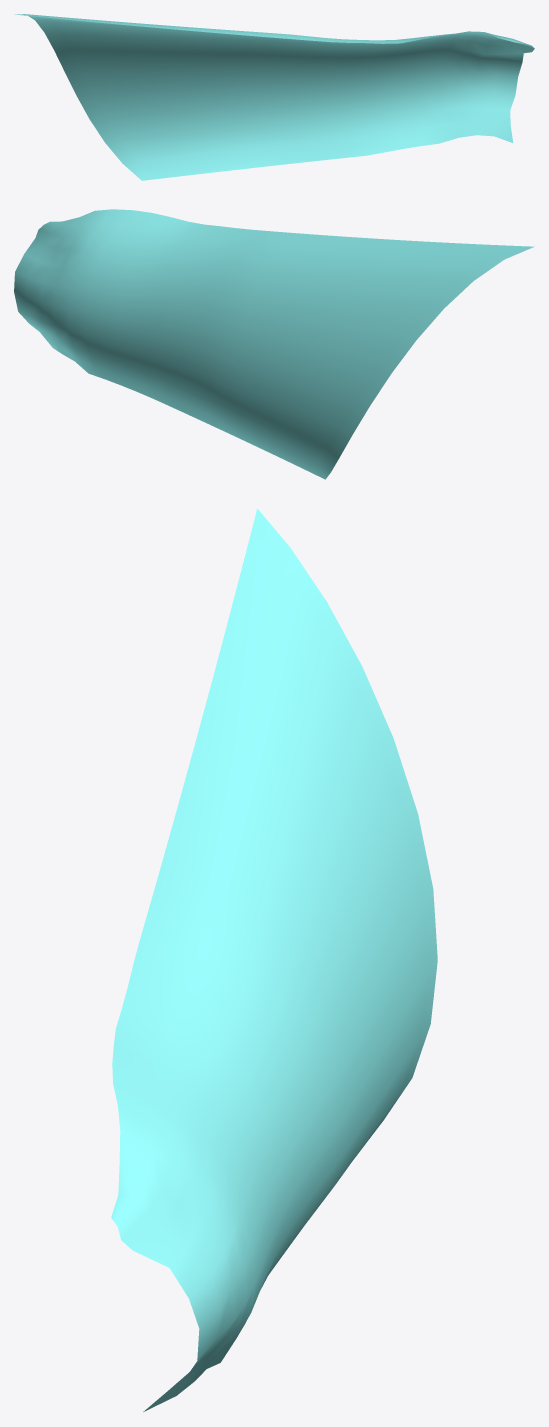
The model's file is Unit_Cloth_Left.FBX.
The picture shows the model from 3 angles, top to bottom: view 1: azimuth 30°, elevation 25°; view 2: azimuth 150°, elevation 25°; view 3: azimuth 270°, elevation 25°; orthographic projection. The views are drawn at different scales.
Visible parts, largest first — view 1: Unit_Cloth_Left; view 2: Unit_Cloth_Left; view 3: Unit_Cloth_Left.
Part boxes in pixels (x1,y1,x2,y2): Unit_Cloth_Left: (14,14,534,180); Unit_Cloth_Left: (14,209,534,479); Unit_Cloth_Left: (111,508,437,1411).
Bounding box in the file's own units: 99.18 × 44.05 × 28.55.
